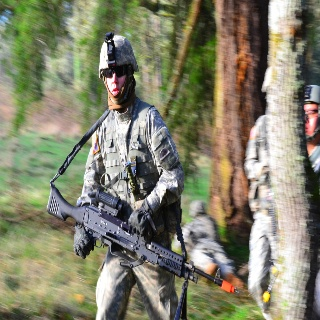rifle: (45, 180, 241, 294)
